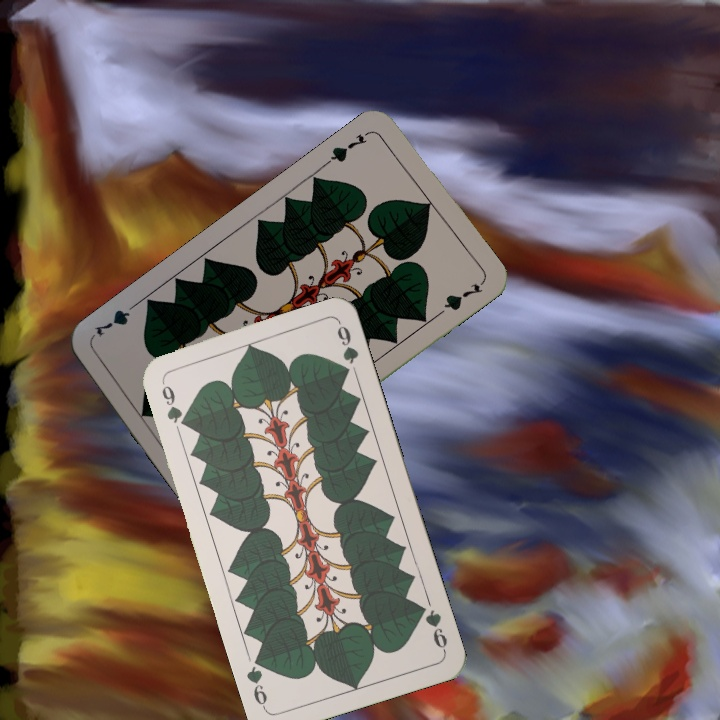G7: (322, 126, 373, 167)
G9: (413, 600, 450, 655), (157, 377, 190, 430)
